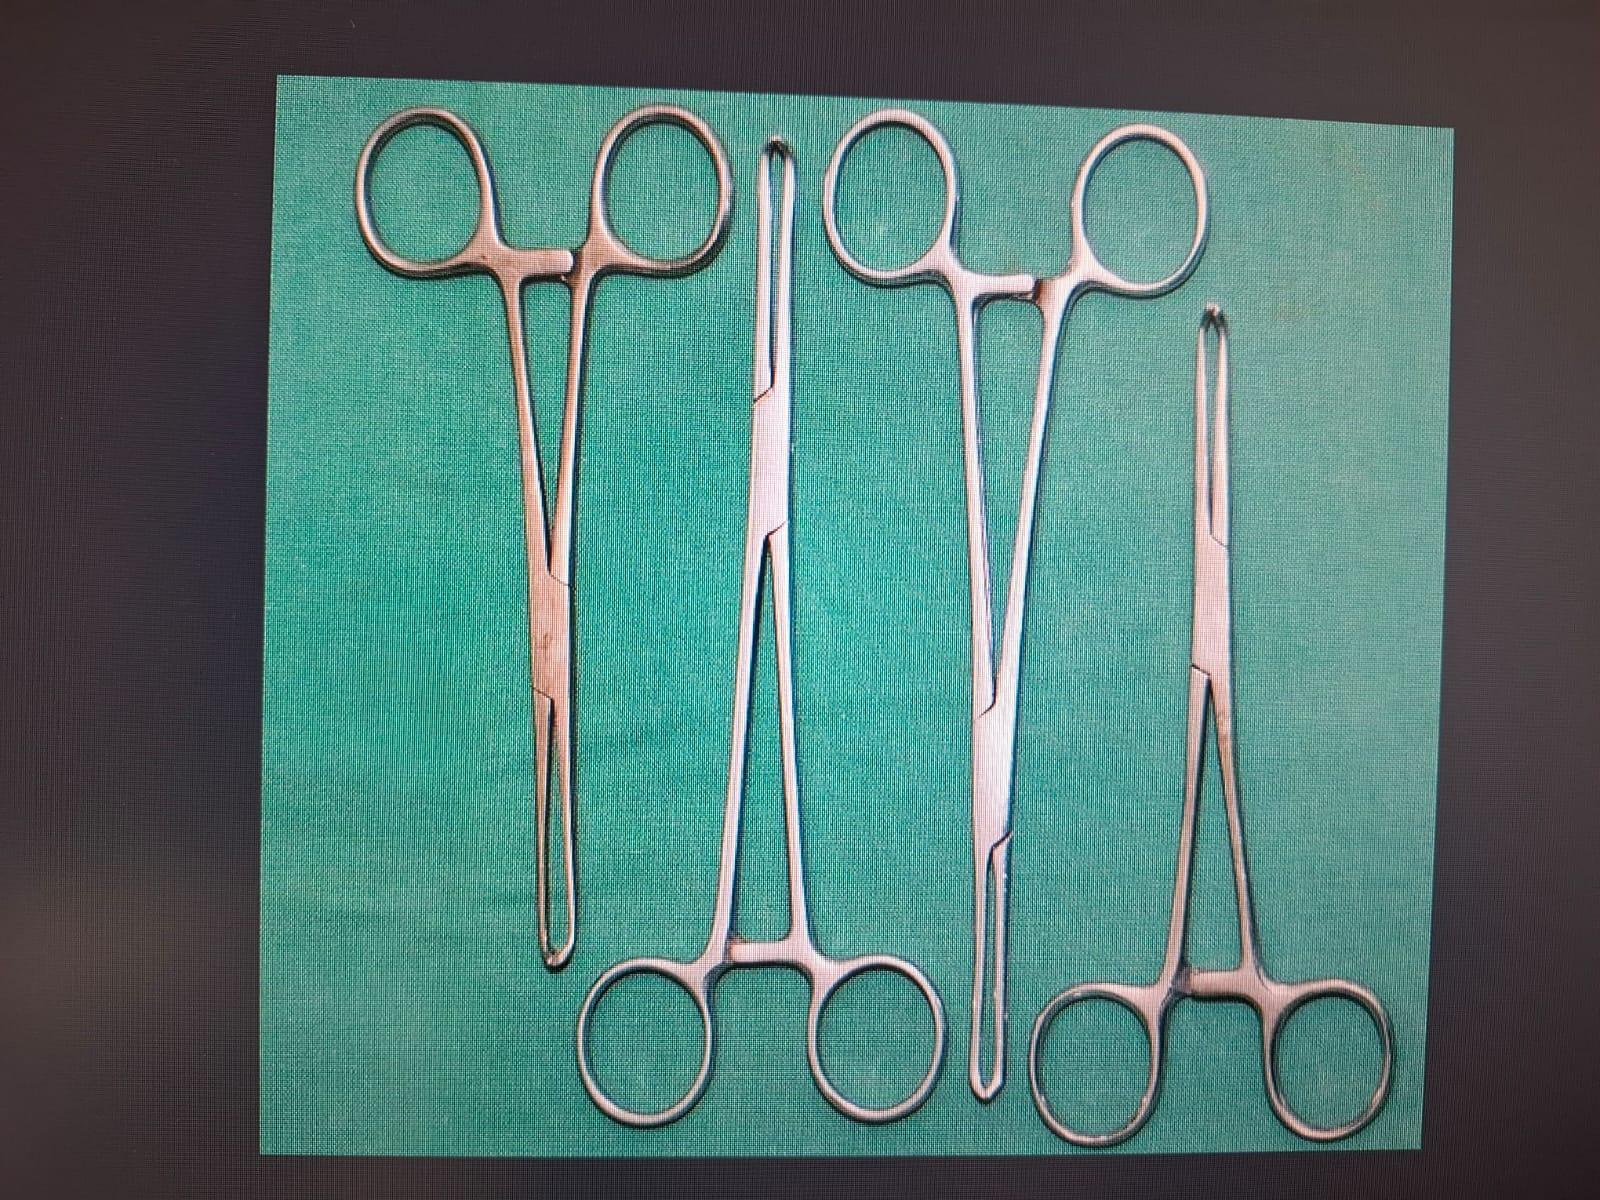Allis Forceps: (792, 105, 1249, 1094), (556, 113, 970, 1148), (324, 82, 742, 988), (1008, 287, 1427, 1152)
